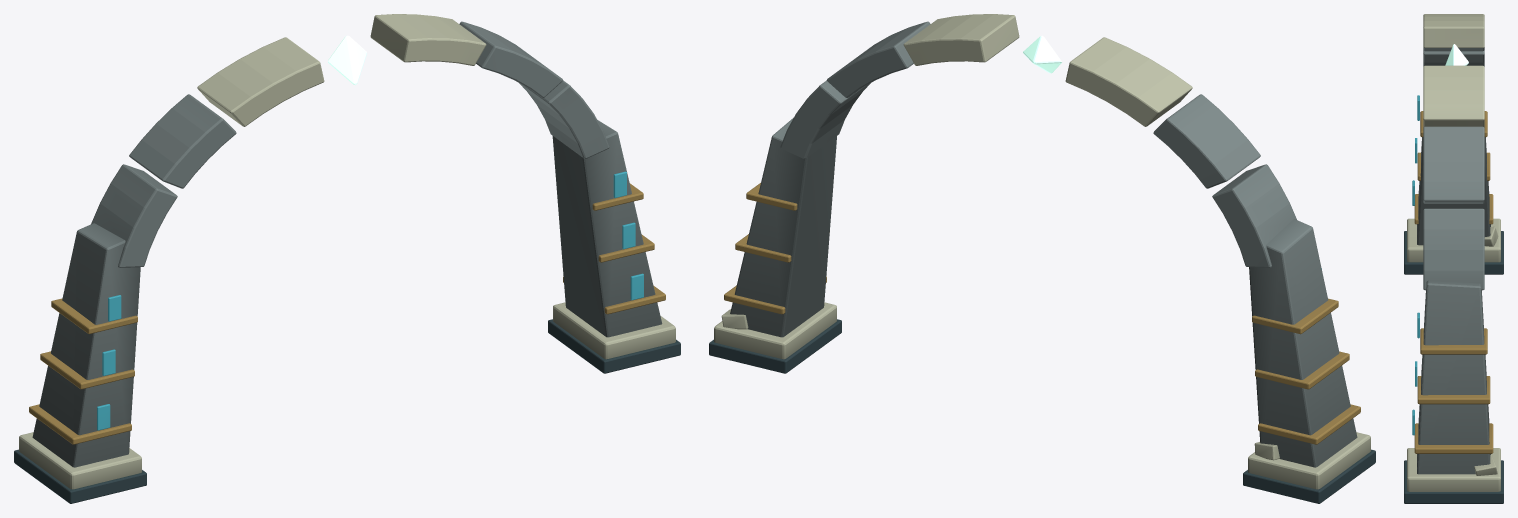
File: skyreach-star-road-gate-v1.glb
3 renders of one model, left to right at view 1: azimuth 30°, elevation 25°; view 2: azimuth 150°, elevation 25°; view 3: azimuth 270°, elevation 25°, orthographic. The views are drawn at different scales.
Parts seen in each view (by area): view 1: GB_GATE_Stone, GB_GATE_Fracture, GB_GATE_Bronze, GB_GATE_Recess, GB_GATE_Inlay, GB_GATE_Core; view 2: GB_GATE_Stone, GB_GATE_Fracture, GB_GATE_Bronze, GB_GATE_Recess, GB_GATE_Core; view 3: GB_GATE_Stone, GB_GATE_Fracture, GB_GATE_Bronze, GB_GATE_Recess, GB_GATE_Inlay, GB_GATE_Core.
Part boxes in pixels (x1,y1,x2,y2): GB_GATE_Stone: (32, 21, 662, 467); GB_GATE_Fracture: (19, 14, 675, 489); GB_GATE_Bronze: (29, 183, 665, 444); GB_GATE_Recess: (14, 319, 680, 503); GB_GATE_Inlay: (97, 171, 643, 430); GB_GATE_Core: (328, 35, 366, 85); GB_GATE_Stone: (730, 21, 1357, 467); GB_GATE_Fracture: (714, 14, 1370, 489); GB_GATE_Bronze: (724, 183, 1360, 444); GB_GATE_Recess: (709, 319, 1375, 503); GB_GATE_Core: (1023, 35, 1061, 73); GB_GATE_Stone: (1417, 47, 1490, 474); GB_GATE_Fracture: (1407, 14, 1500, 491); GB_GATE_Bronze: (1414, 111, 1493, 453); GB_GATE_Recess: (1404, 231, 1503, 503); GB_GATE_Inlay: (1412, 95, 1419, 435); GB_GATE_Core: (1445, 44, 1468, 65).
Bounding box in the file's own units: 8.7 × 5.09 × 1.4.
